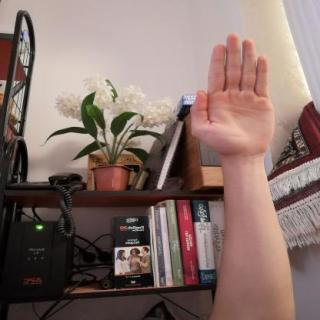SEEN: (181, 27, 284, 165)
